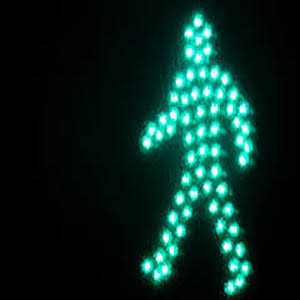green: (125, 9, 276, 290)
